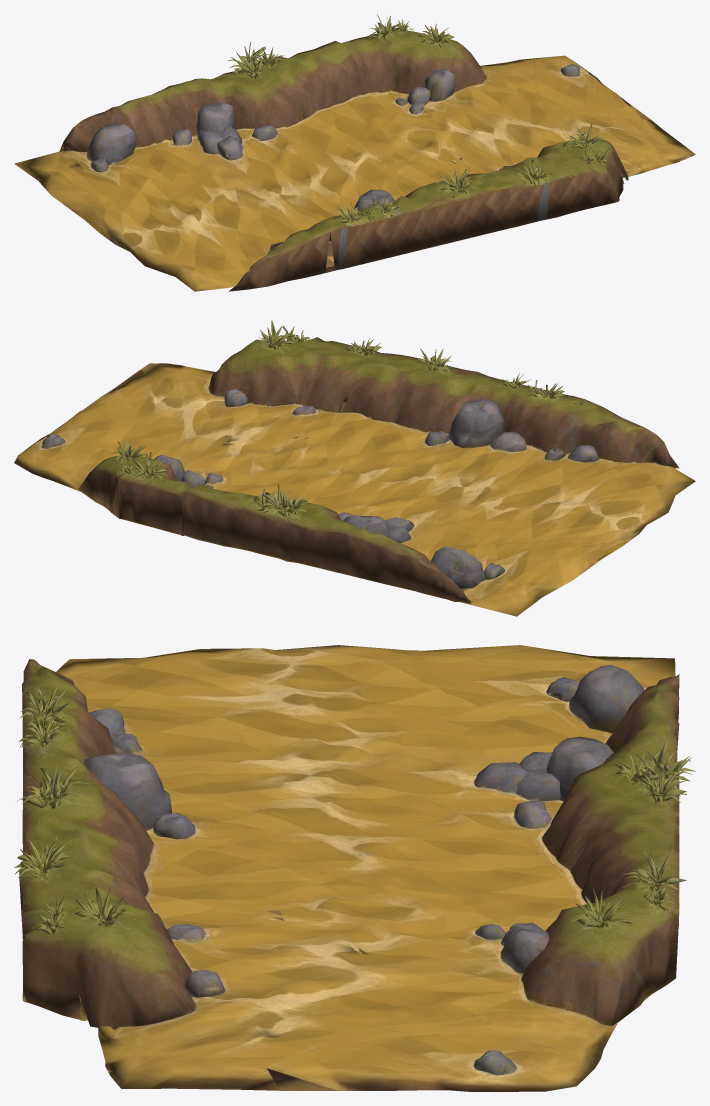
The model's file is river.glb.
3 renders of one model, top to bottom at view 1: azimuth 30°, elevation 25°; view 2: azimuth 150°, elevation 25°; view 3: azimuth 270°, elevation 25°, orthographic. The views are drawn at different scales.
Bounding box in the file's own units: 0.9536 × 0.1206 × 0.6201.
Materials: 1 (1 with a texture image).
